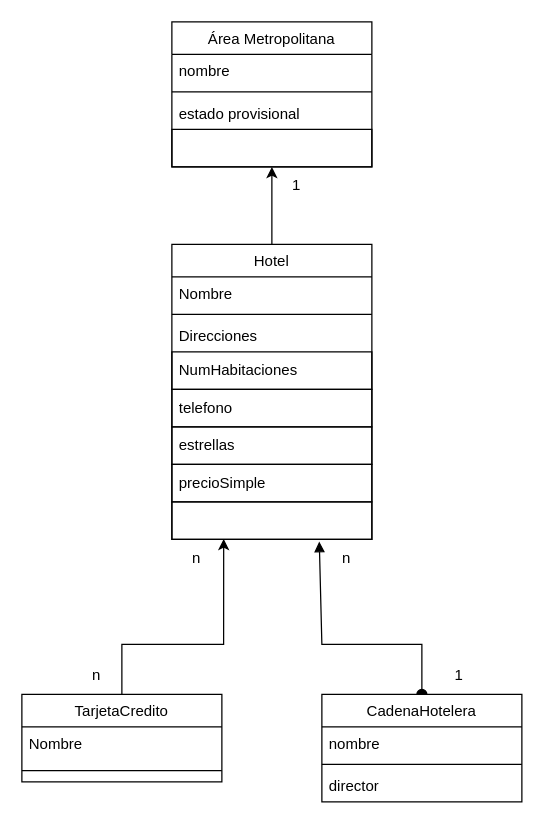
This 544x828 diagram has some shape labels left out. Here are the shapes that lost their labels. From the top down, the centre of each, then its label:
At point (271, 147): "pais".
At point (271, 520): "precioDoble".
